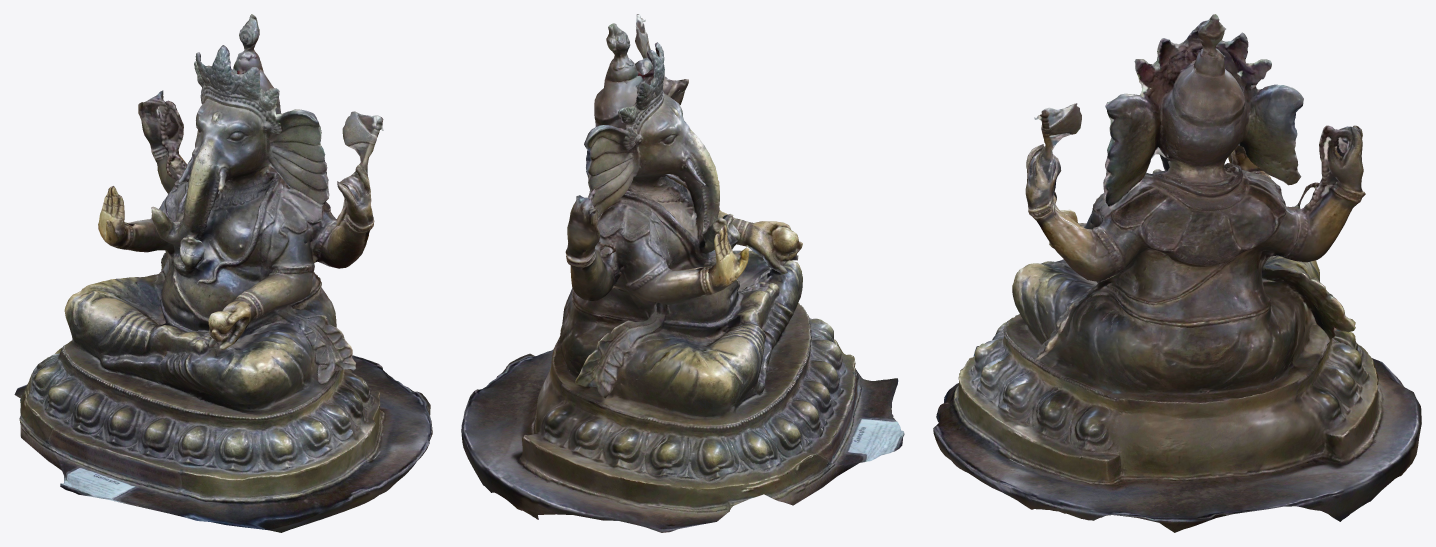
File: ganesha.glb
The picture shows the model from 3 angles, left to right: view 1: azimuth 30°, elevation 25°; view 2: azimuth 150°, elevation 25°; view 3: azimuth 270°, elevation 25°; orthographic projection. The views are drawn at different scales.
Visible parts, largest first — view 1: 958b9846-5e4f-4852-922c-8e512044df55; view 2: 958b9846-5e4f-4852-922c-8e512044df55; view 3: 958b9846-5e4f-4852-922c-8e512044df55.
Part boxes in pixels (bbox=[...]): 958b9846-5e4f-4852-922c-8e512044df55: bbox=[14, 14, 432, 532]; 958b9846-5e4f-4852-922c-8e512044df55: bbox=[461, 14, 904, 532]; 958b9846-5e4f-4852-922c-8e512044df55: bbox=[933, 14, 1421, 532].
Size of the model in its own units: 0.933 by 1.02 by 0.9607.
1 material, 1 textured.
